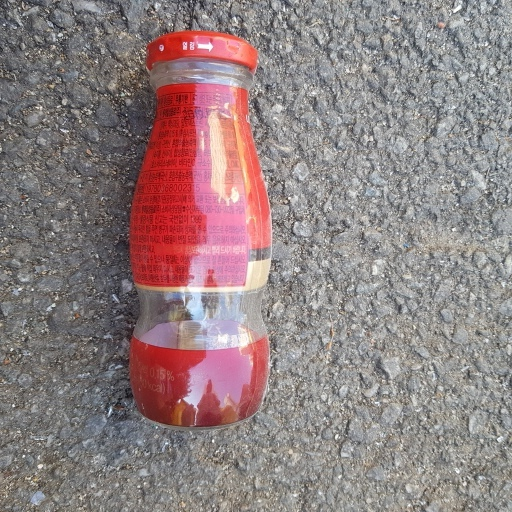Glass_4: (123, 26, 277, 428)
